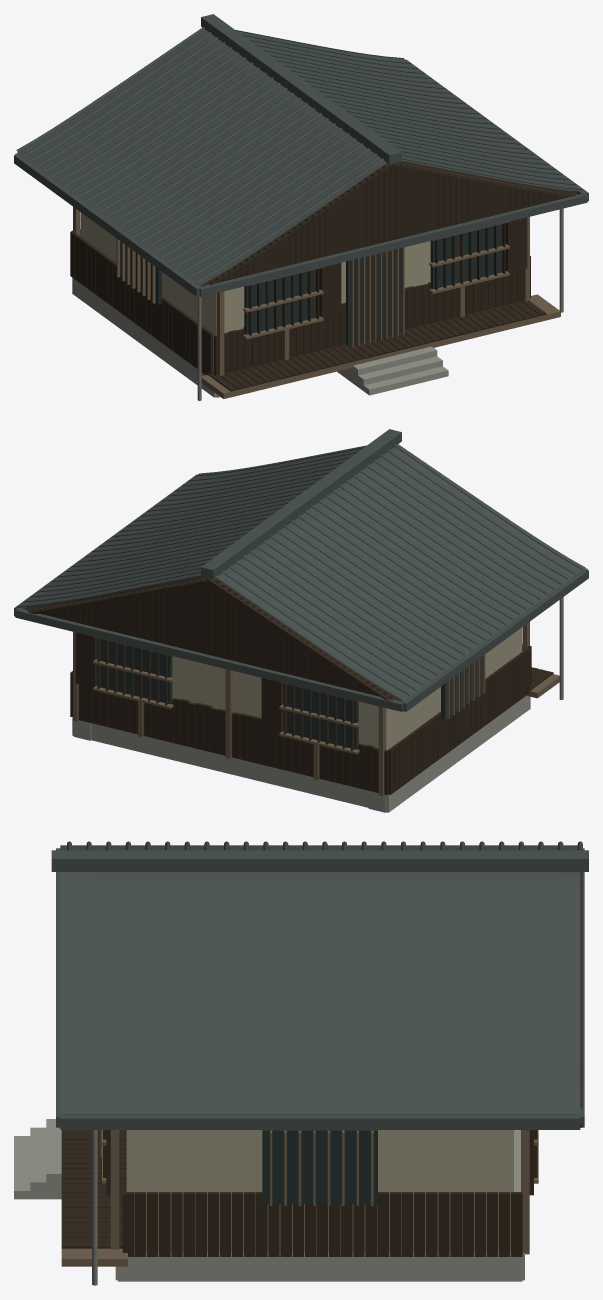
File: house.glb
3 renders of one model, top to bottom at view 1: azimuth 30°, elevation 25°; view 2: azimuth 150°, elevation 25°; view 3: azimuth 270°, elevation 25°, orthographic. The views are drawn at different scales.
Parts seen in each view (by area): view 1: roof, darkwood, wood, glass, stone, plaster, metal; view 2: roof, darkwood, stone, plaster, wood, glass, metal; view 3: roof, darkwood, plaster, stone, glass, wood, metal.
Boxes of the visible parts, <box> form: roof: <box>14,14,588,296</box>; darkwood: <box>70,161,578,391</box>; wood: <box>73,207,560,398</box>; glass: <box>120,224,502,345</box>; stone: <box>72,278,448,397</box>; plaster: <box>80,212,430,371</box>; metal: <box>197,208,563,400</box>; roof: <box>14,429,588,711</box>; darkwood: <box>24,576,553,795</box>; stone: <box>72,695,530,812</box>; plaster: <box>172,627,522,750</box>; wood: <box>73,622,559,796</box>; glass: <box>100,639,481,749</box>; metal: <box>559,597,563,699</box>; roof: <box>51,841,588,1129</box>; darkwood: <box>61,872,582,1256</box>; plaster: <box>126,1130,513,1252</box>; stone: <box>14,1119,524,1281</box>; glass: <box>262,1130,377,1203</box>; wood: <box>61,1130,538,1266</box>; metal: <box>92,1130,97,1285</box>.
Size of the model in its own units: 11.17 by 6.05 by 9.95.
